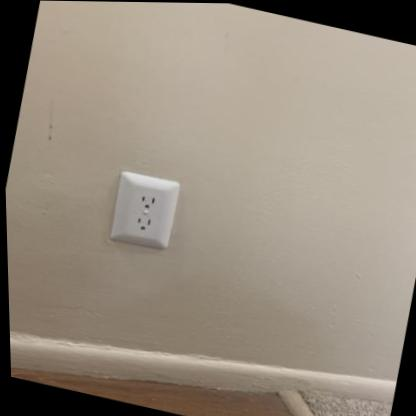OUTLET: (105, 168, 184, 253)
